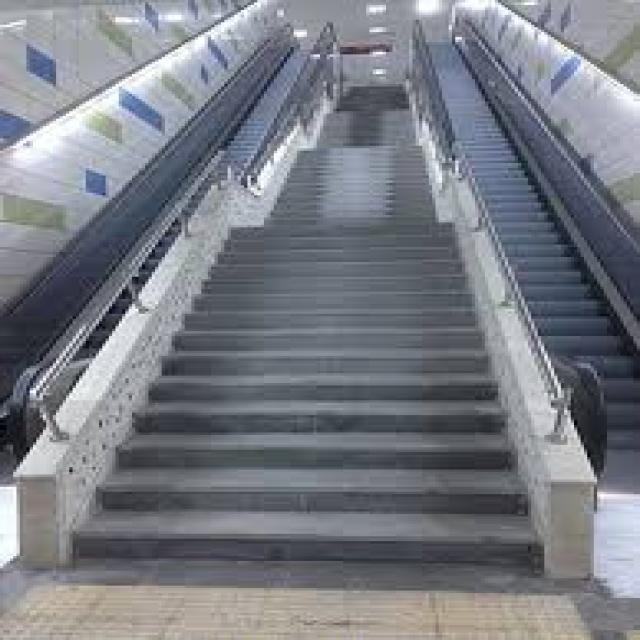stair: (95, 222, 580, 588)
